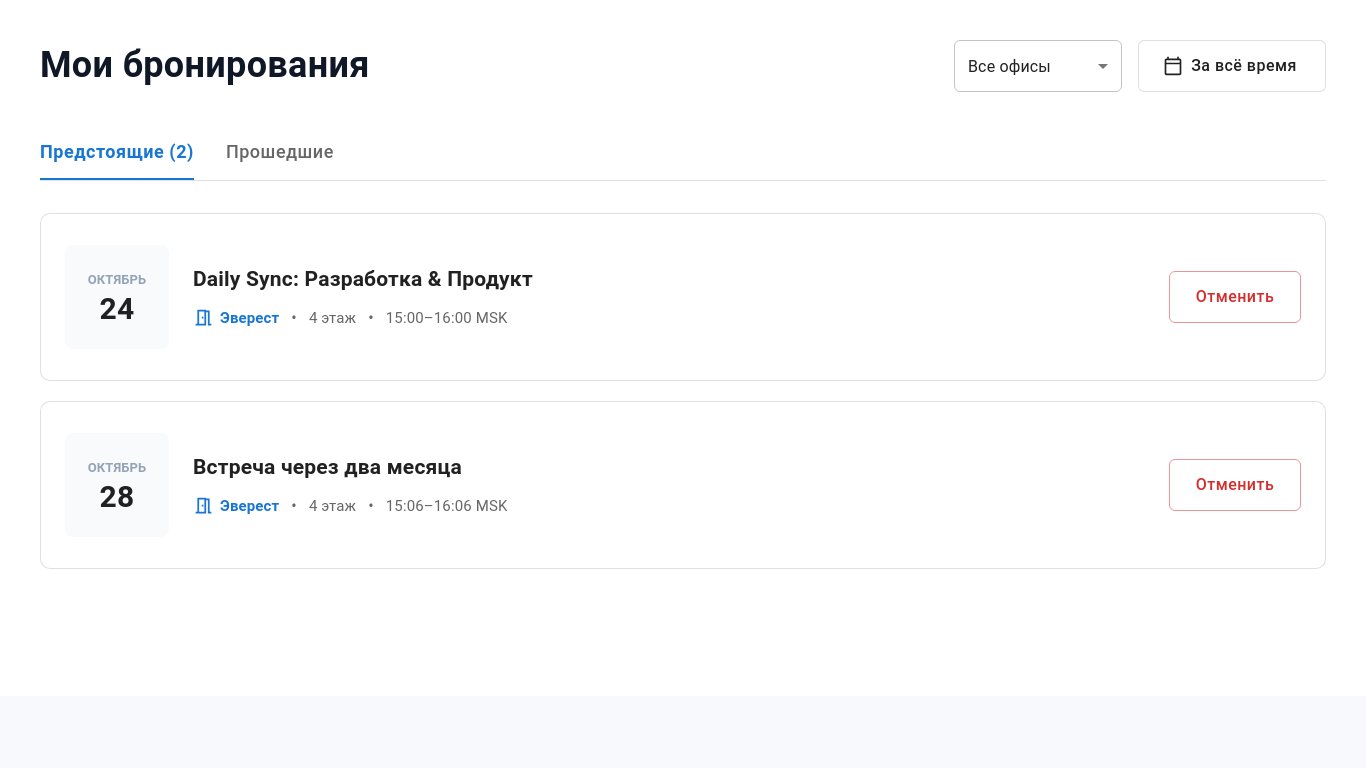
it: BookingsPage › filters bookings by the selected period
Click the button "За всё время" at (1232, 66), box [1138,40,1326,92]
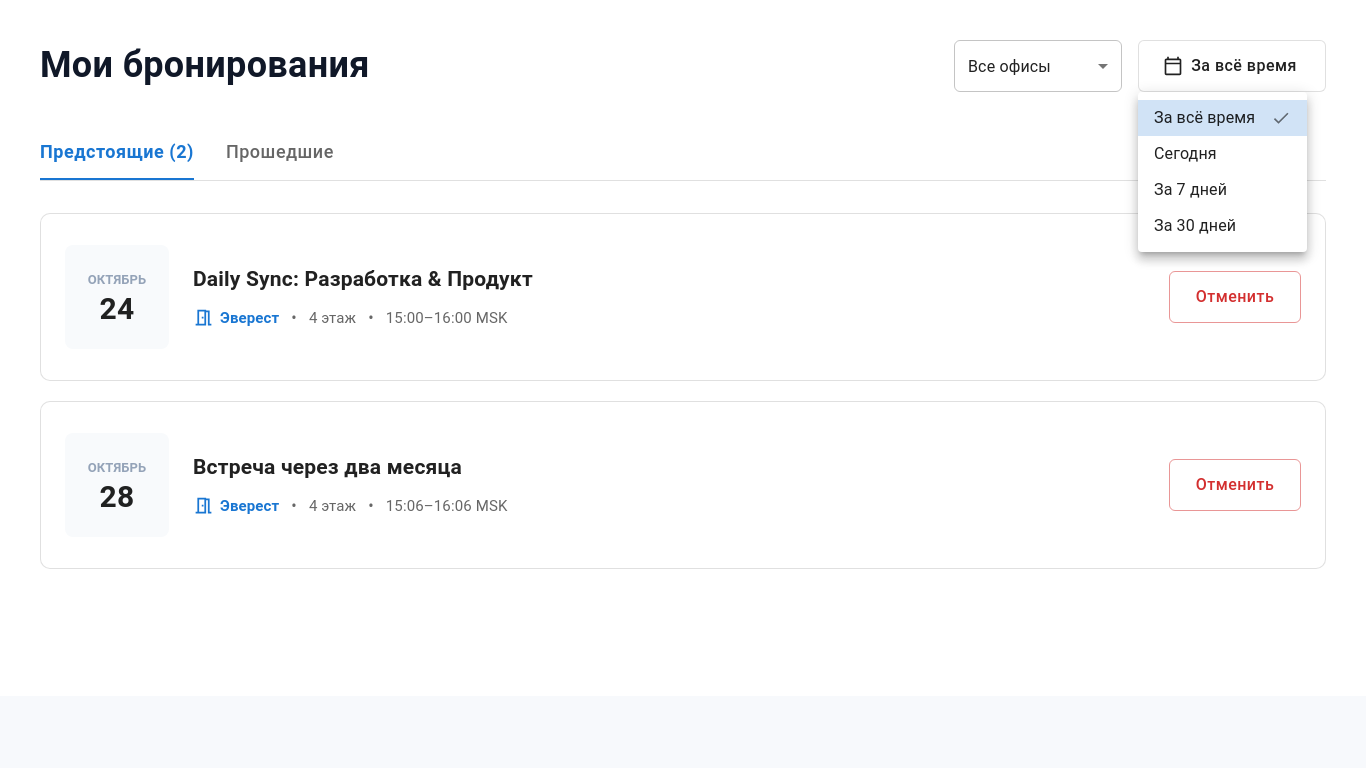
Click the menu item "За 30 дней" at (1195, 226), box [1154,216,1236,235]
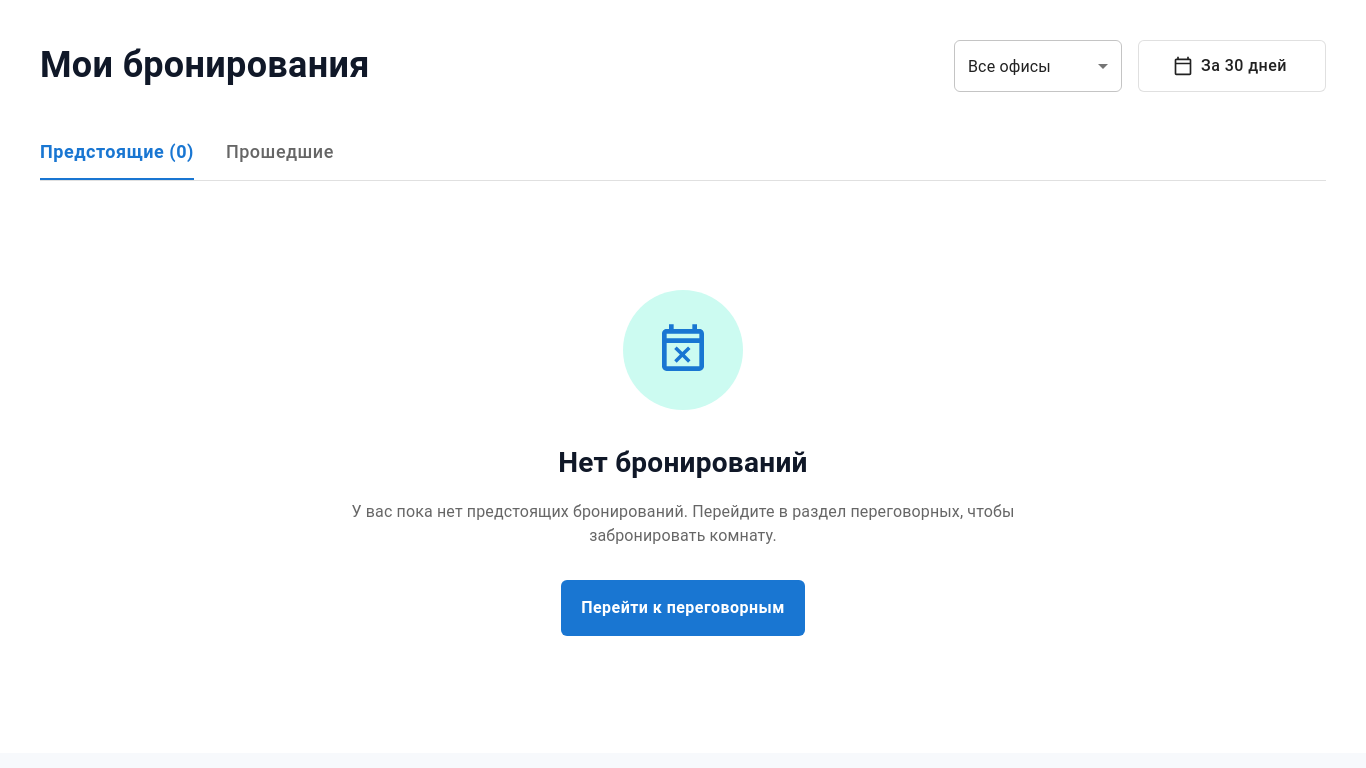
Expected: the heading "Встреча через два месяца" is gone
Expected: the button "За 30 дней" is shown, [1138,40,1326,92]
